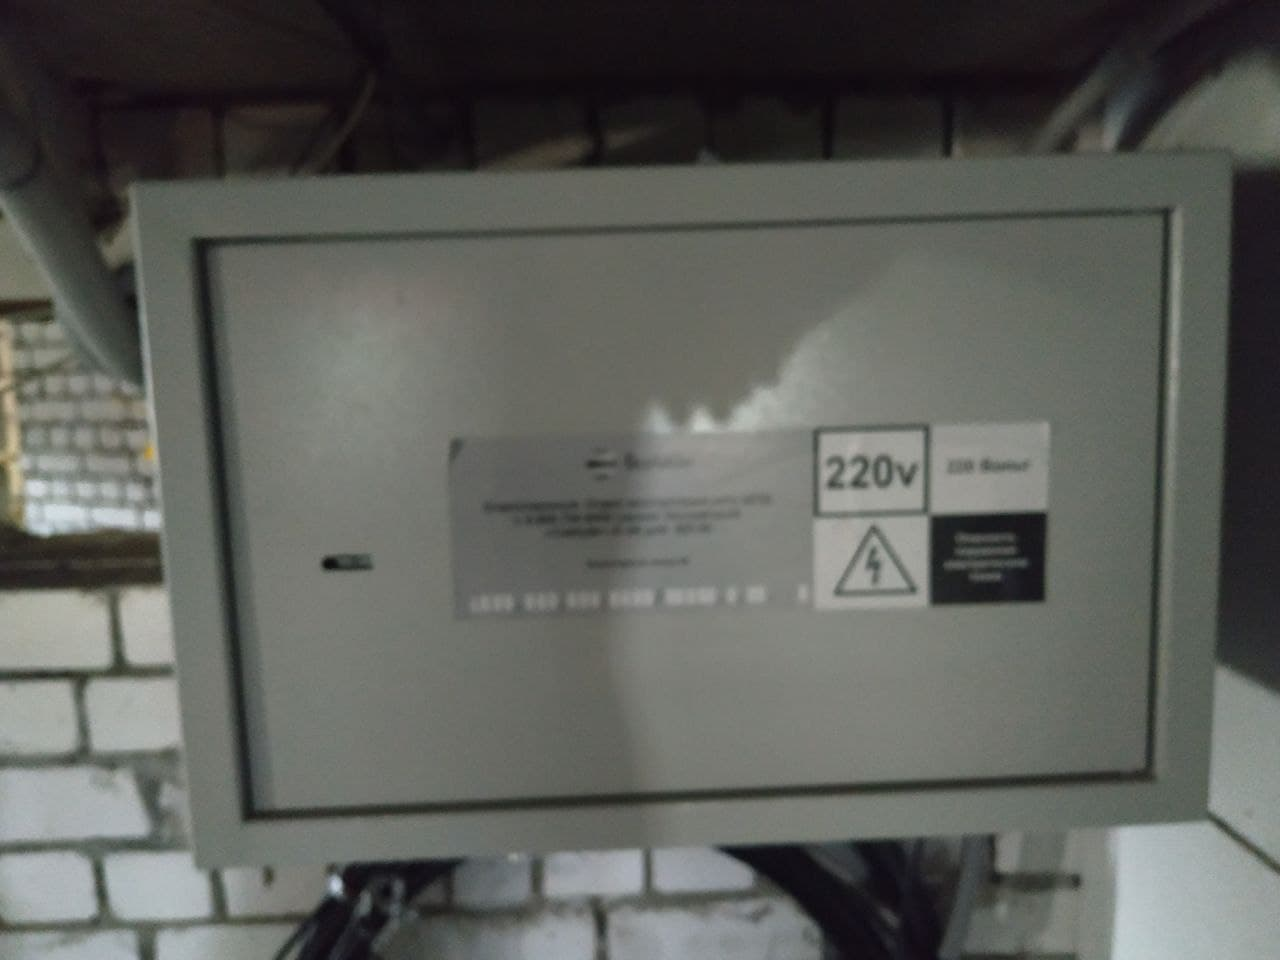shta-7m: (119, 125, 1246, 889)
